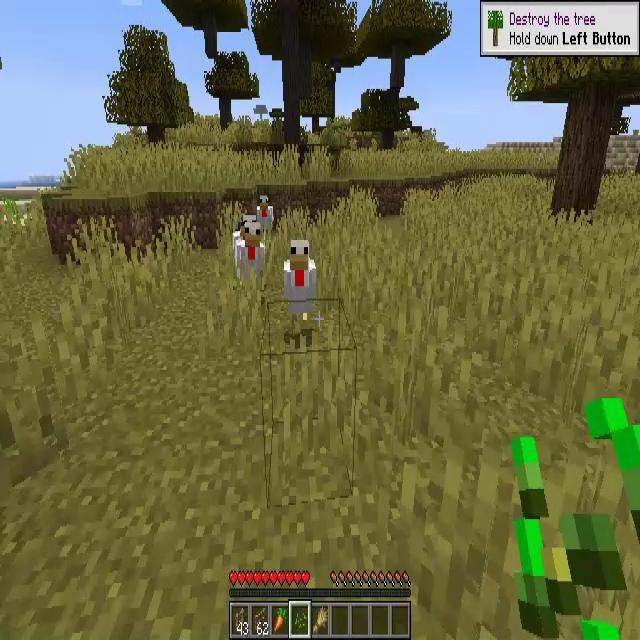duck: (283, 238, 318, 329), (233, 222, 264, 290), (256, 195, 275, 231)
